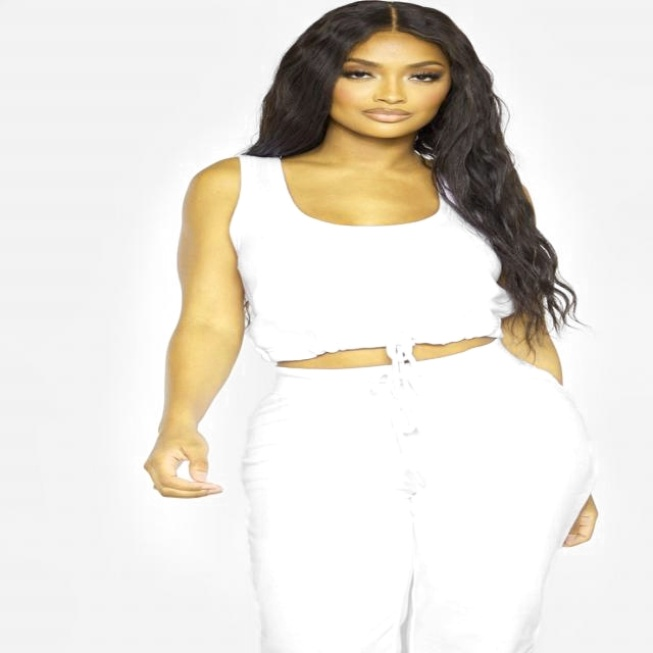Crop_Top: (228, 226, 509, 369)
Sleeveless: (181, 156, 239, 209)
low_neckline: (228, 154, 502, 335)
